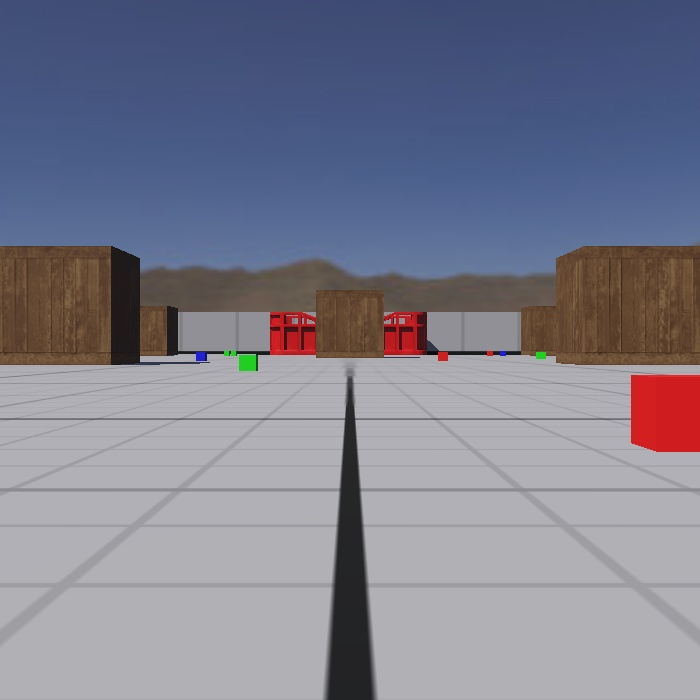caixa_vermelha: (267, 305, 435, 361)
cubo_azul: (187, 342, 217, 366), (494, 341, 513, 361)
cubo_verde: (232, 349, 265, 378), (227, 340, 246, 361), (217, 342, 234, 361), (533, 346, 553, 361)
cubo_vermelho: (625, 364, 700, 467), (428, 346, 455, 366), (481, 344, 499, 360)
obstaculo: (547, 238, 700, 371), (0, 235, 146, 374), (312, 283, 393, 365), (136, 295, 187, 361), (514, 301, 564, 358)
